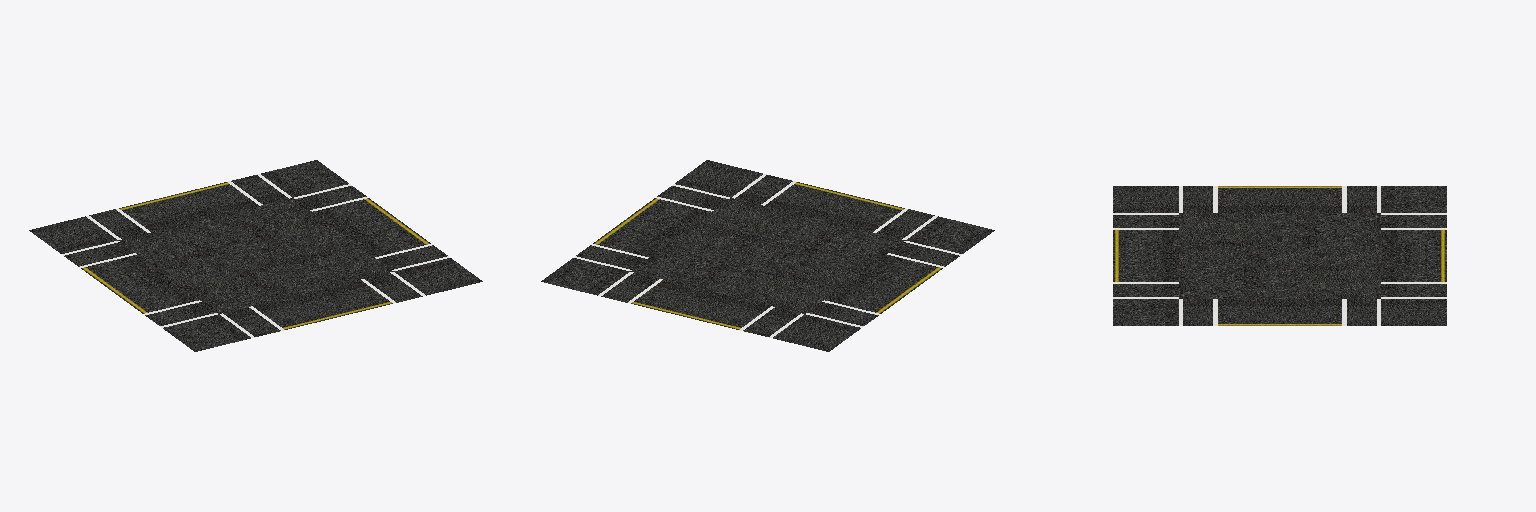
3 views of the same model, side by side, from view 1: azimuth 30°, elevation 25°; view 2: azimuth 150°, elevation 25°; view 3: azimuth 270°, elevation 25° (orthographic).
Visible parts, largest first — view 1: Plane; view 2: Plane; view 3: Plane.
Part boxes in pixels (x1,y1,x2,y2): Plane: (29,160,482,351); Plane: (541,160,994,351); Plane: (1113,186,1446,325).
Size of the model in its own units: 26 by 0 by 26.
Materials: 1 (1 with a texture image).